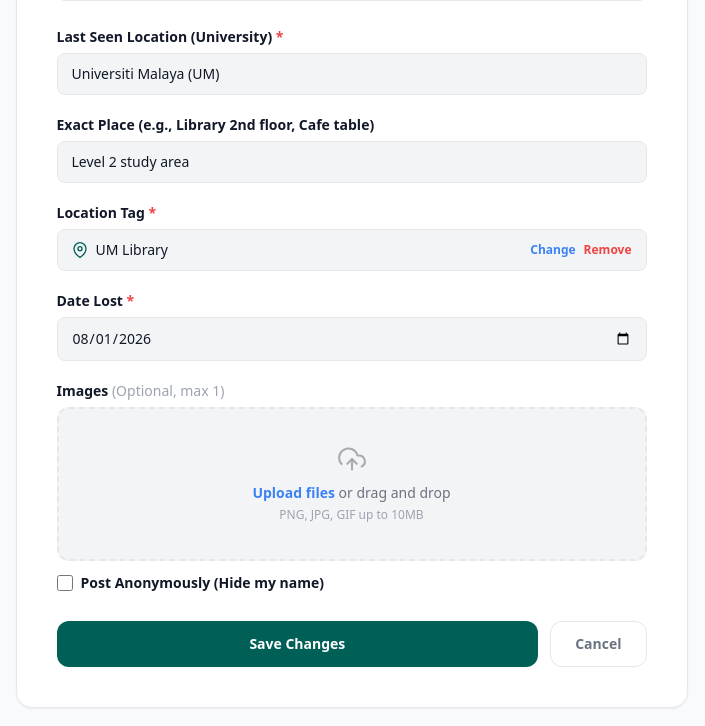
Test: ReportLostItemPage — edit mode › blocks saving with an authentication error if no user is logged in
(page scrolled)
Click the button "Save Changes" at point(297, 644), box [56,621,538,667]
(page scrolled)
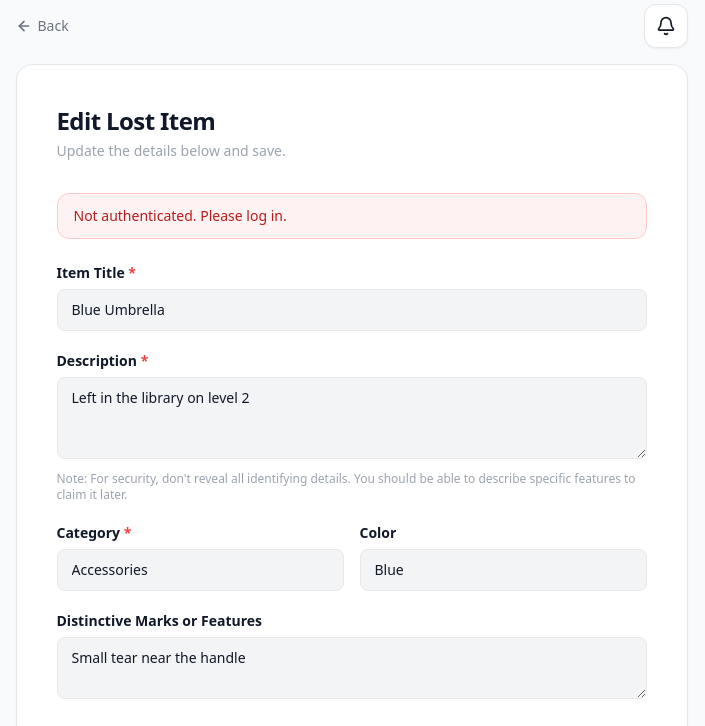
Expected: the text "Not authenticated. Please log in." is shown, [56,193,646,239]
